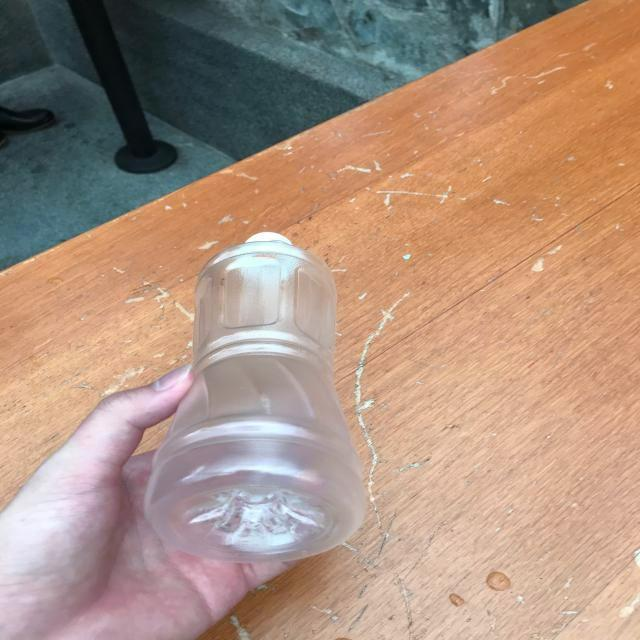bottle: (145, 232, 365, 563)
